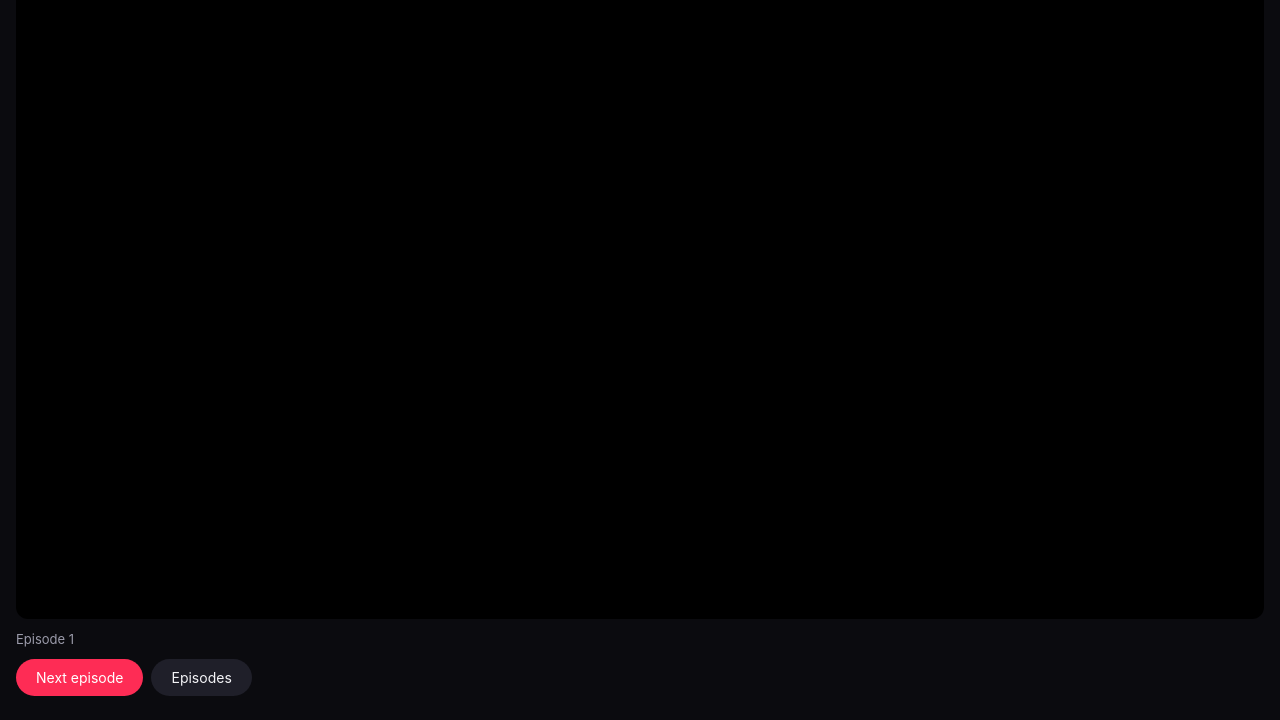
locked episodes are intercepted at every entry › sessions a locked 切集 target without advancing VePlayer onto a demo album
The width and height of the screenshot is (1280, 720).
(page scrolled)
Click the button with test id "episode-picker-open" at (202, 678), box [152,659,252,696]
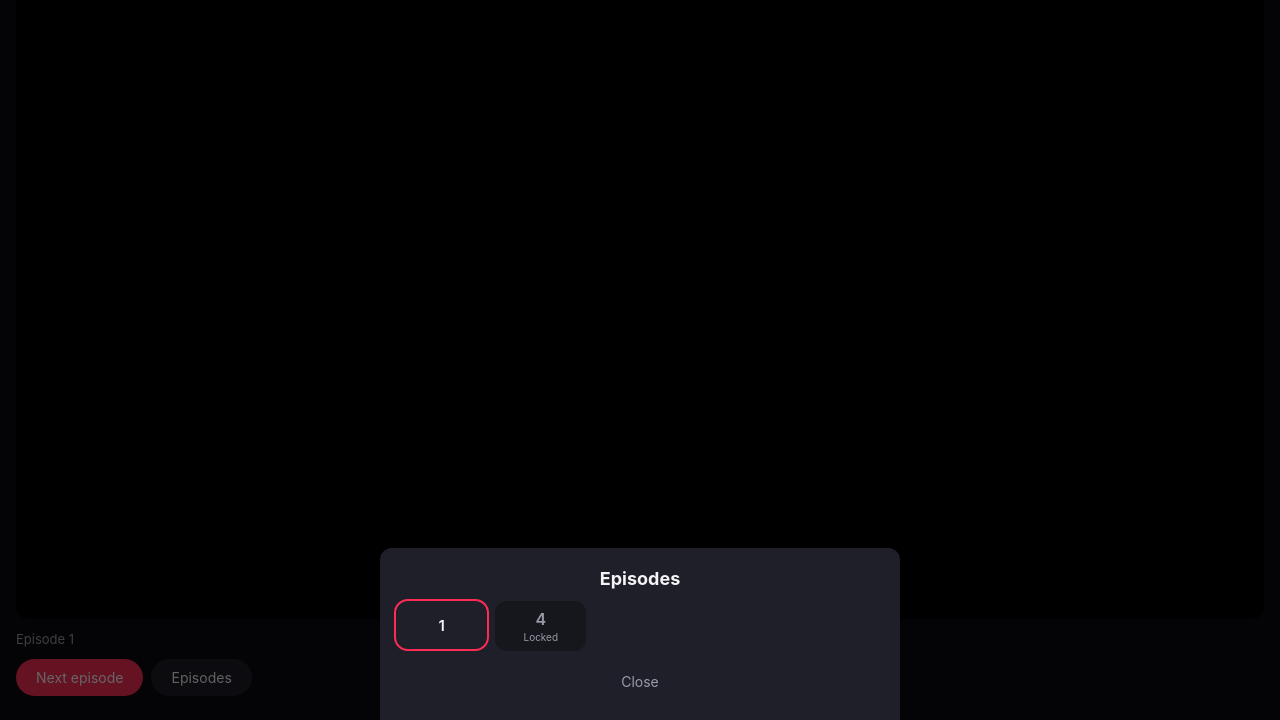
Check: the list with test id "episode-picker-grid" is shown, box [396,601,586,651]
Check: the button with test id "episode-picker-cell" showing "4 Locked" is shown
Click the button with test id "episode-picker-cell" showing "4 Locked" at (541, 626), box [495,601,586,651]
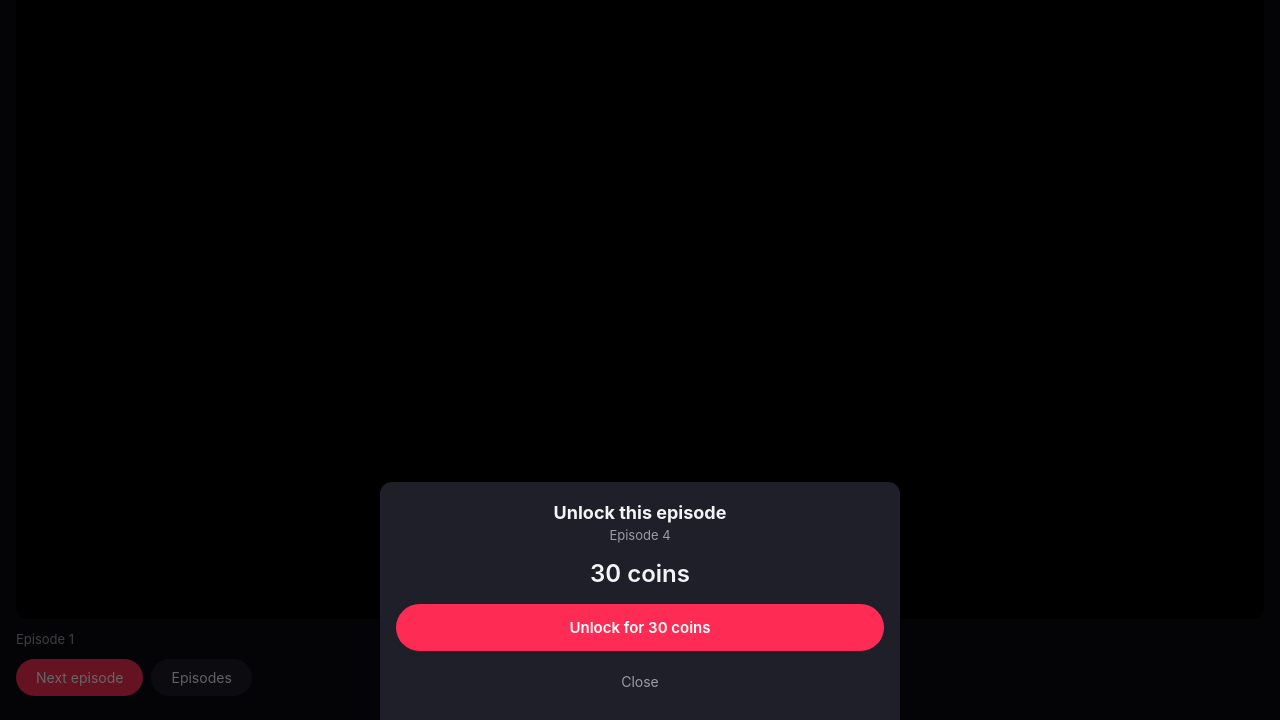
Check: the element with test id "unlock-panel" is shown
Check: the element with test id "episode-picker" is gone
